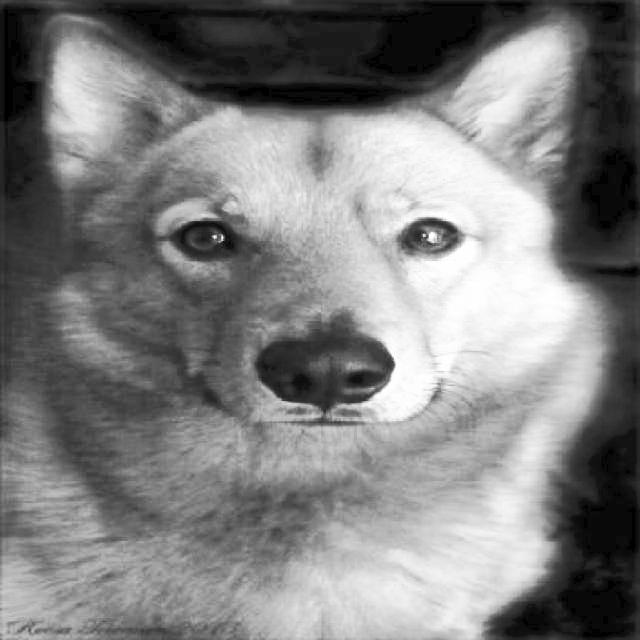Dog: (8, 0, 610, 640)
